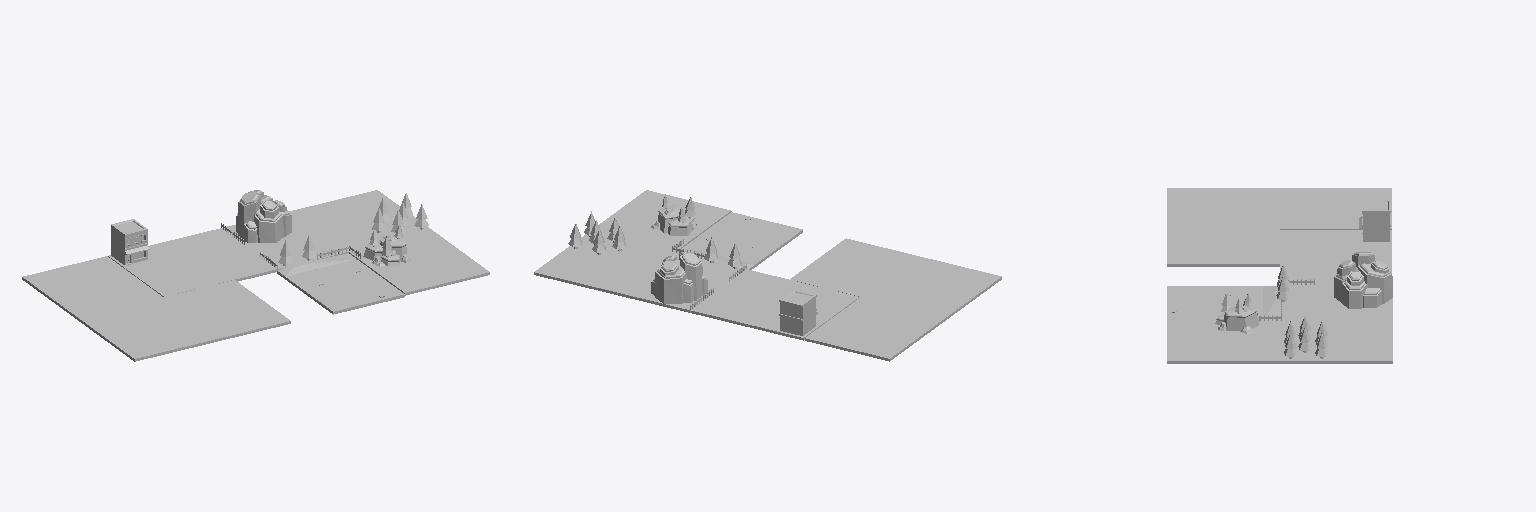
Rendered from Level1.obj.
3 views of the same model, side by side, from view 1: azimuth 30°, elevation 25°; view 2: azimuth 150°, elevation 25°; view 3: azimuth 270°, elevation 25° (orthographic).
Visible parts, largest first — view 1: Pasto.002, Pasto, Calle, Pasto.001, Montaña, Edificio, Arboles, hills_A_trees; view 2: Pasto.002, Pasto, Calle, Pasto.001, Montaña, Arboles, Edificio, hills_A_trees; view 3: Pasto.002, Pasto, Calle, Montaña, Pasto.001, Arboles, Edificio, hills_A_trees.
Part boxes in pixels (bbox=[...]): Pasto.002: bbox=[22, 256, 290, 361]; Pasto: bbox=[222, 190, 489, 295]; Calle: bbox=[108, 228, 276, 296]; Pasto.001: bbox=[277, 260, 404, 314]; Montaña: bbox=[236, 190, 291, 242]; Edificio: bbox=[111, 219, 149, 265]; Arboles: bbox=[278, 193, 428, 266]; hills_A_trees: bbox=[363, 224, 410, 266]; Pasto.002: bbox=[790, 238, 1001, 361]; Pasto: bbox=[534, 190, 754, 312]; Calle: bbox=[691, 269, 859, 340]; Pasto.001: bbox=[684, 212, 802, 269]; Montaña: bbox=[651, 251, 707, 303]; Arboles: bbox=[568, 211, 741, 268]; Edificio: bbox=[779, 290, 817, 335]; hills_A_trees: bbox=[651, 194, 700, 235]; Pasto.002: bbox=[1167, 188, 1391, 266]; Pasto: bbox=[1167, 285, 1392, 363]; Calle: bbox=[1280, 230, 1391, 284]; Montaña: bbox=[1334, 252, 1392, 308]; Pasto.001: bbox=[1167, 286, 1262, 319]; Arboles: bbox=[1276, 265, 1329, 358]; Edificio: bbox=[1359, 199, 1390, 241]; hills_A_trees: bbox=[1215, 293, 1259, 333].
Size of the model in its own units: 170 by 20.69 by 93.39.